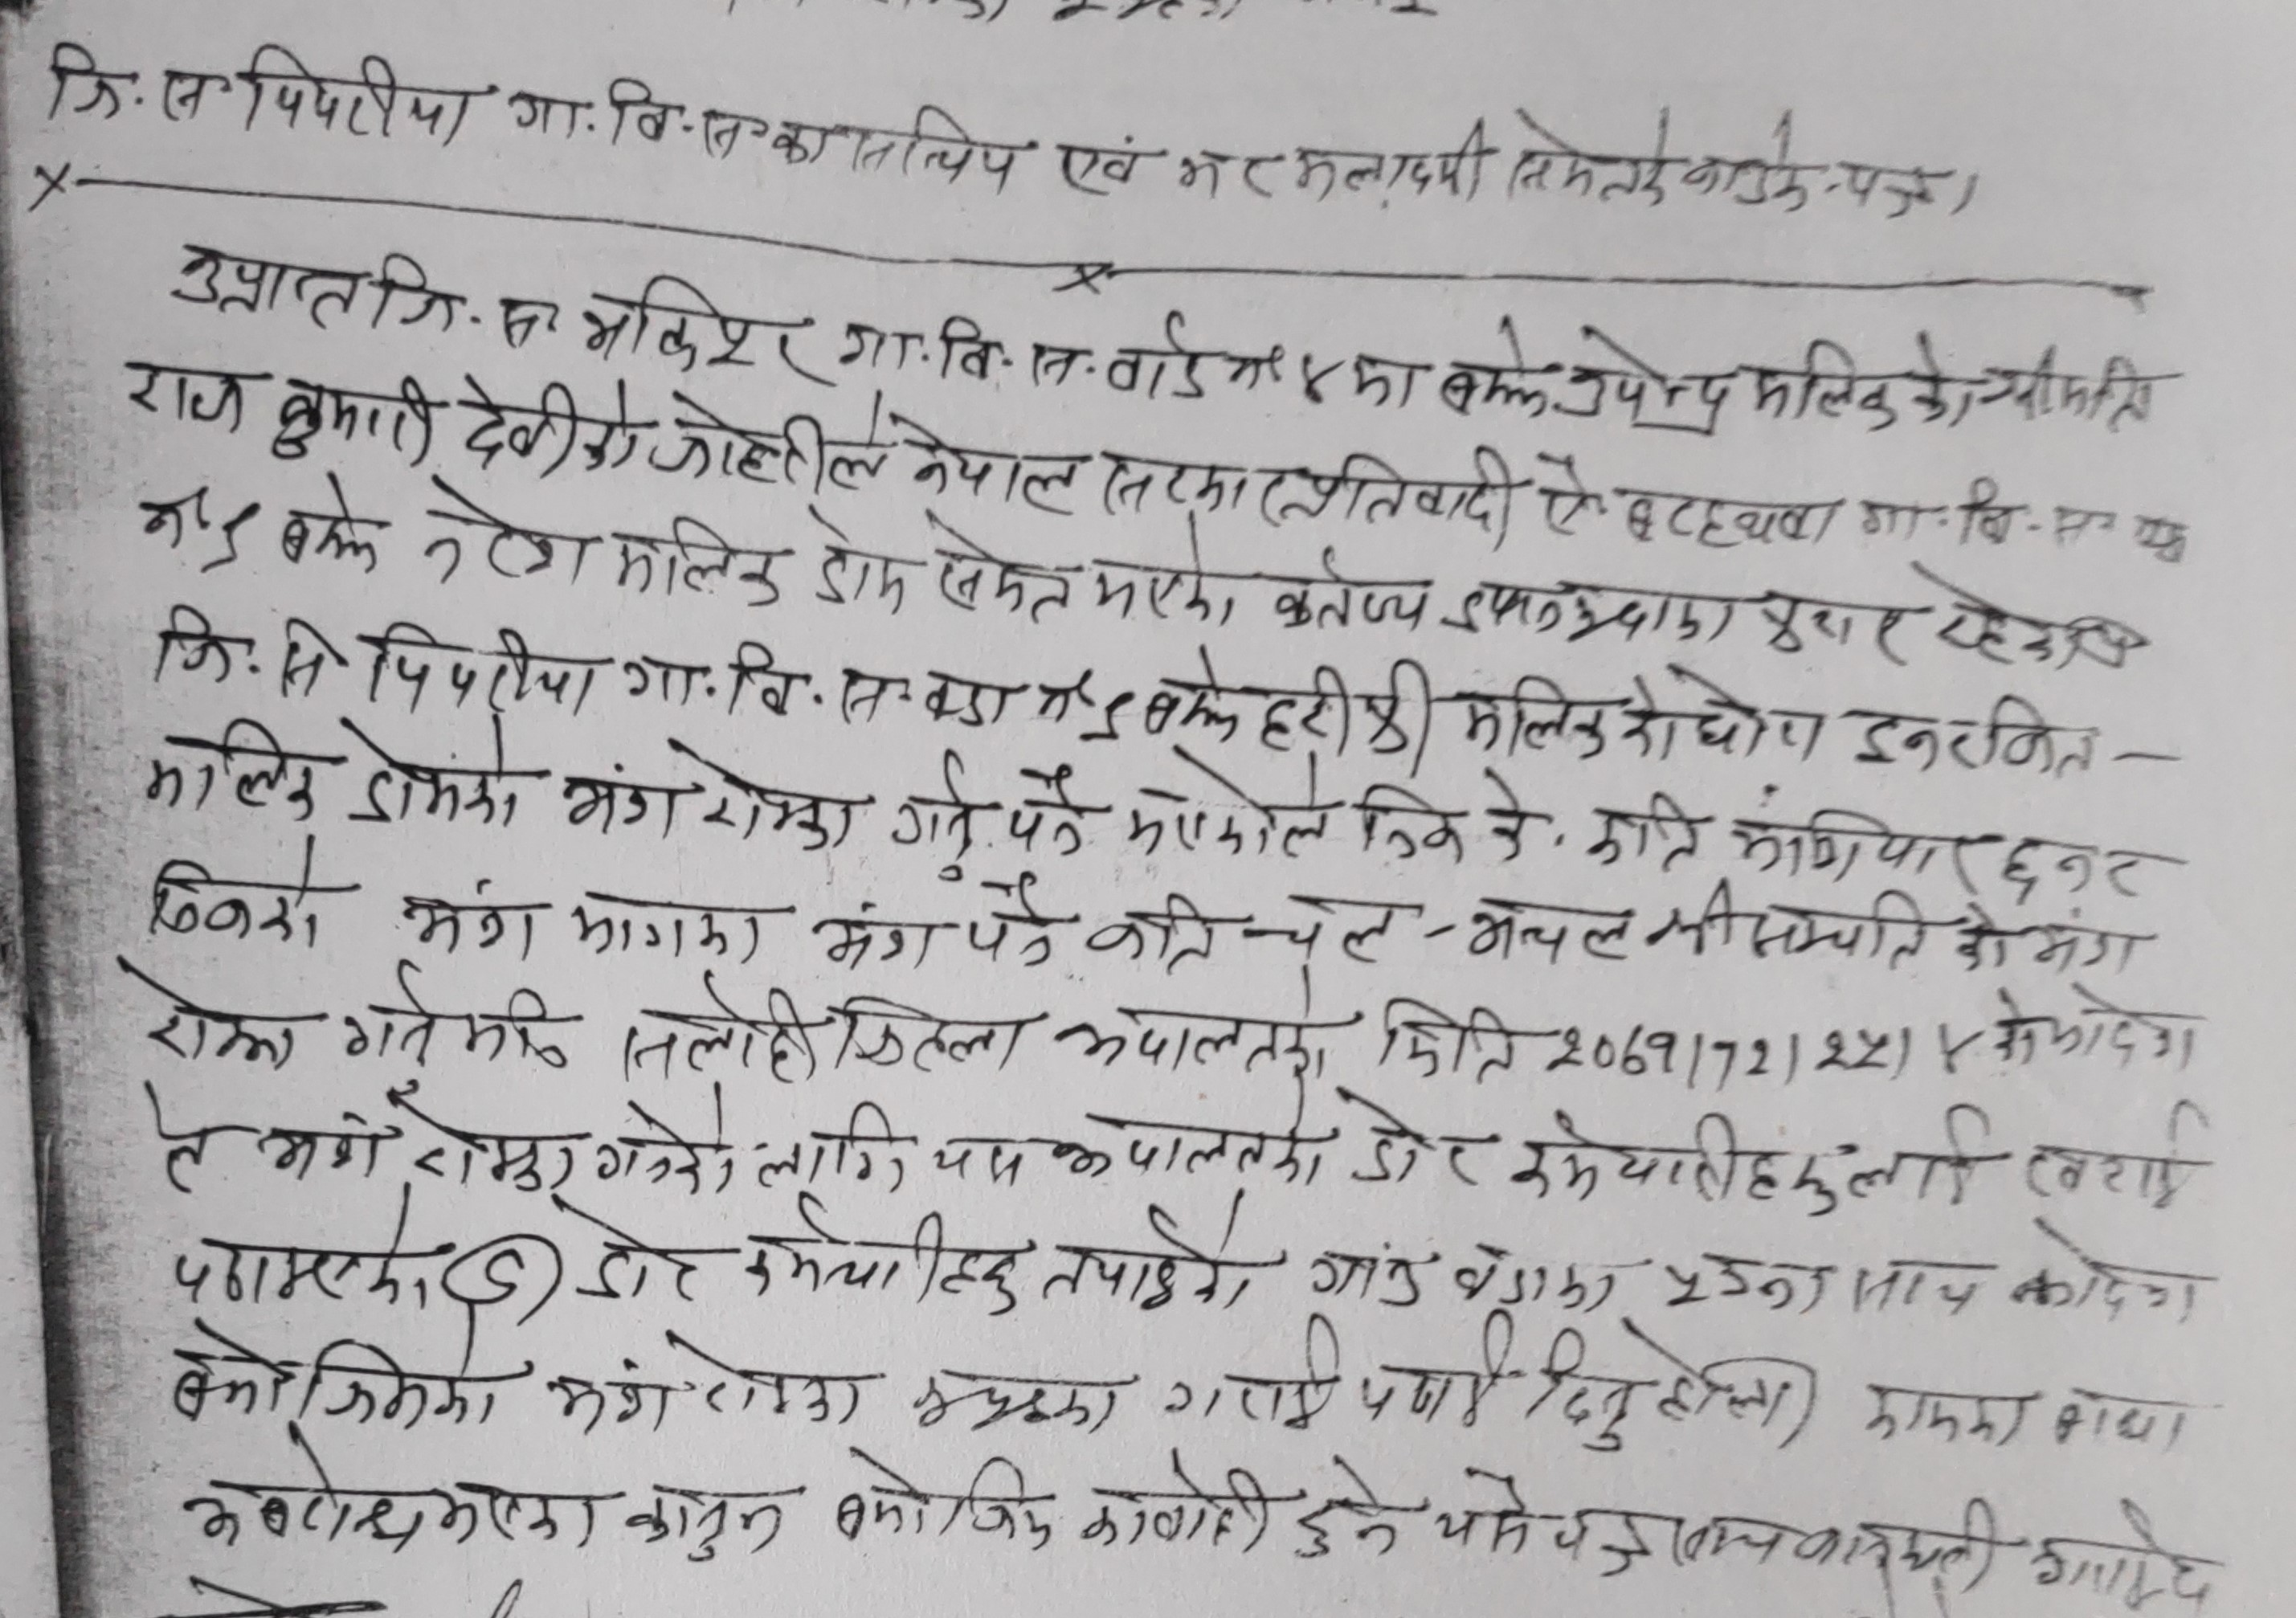text: (1497, 1098, 1995, 1219), (179, 1425, 602, 1562), (1536, 1326, 1821, 1462), (166, 1320, 513, 1432), (734, 1198, 1023, 1320), (1140, 646, 1438, 758), (1039, 1080, 1328, 1191), (165, 1203, 434, 1317), (1054, 979, 1340, 1084), (1545, 1009, 1897, 1091), (823, 1439, 1058, 1558), (578, 266, 816, 380), (648, 387, 893, 497), (1734, 322, 1979, 433), (238, 39, 478, 151), (613, 641, 914, 728), (613, 970, 825, 1091), (2014, 1089, 2212, 1217), (340, 970, 573, 1079), (1918, 567, 2154, 674), (1846, 685, 2102, 783), (1154, 1310, 1352, 1432), (1037, 1199, 1245, 1315), (340, 713, 536, 835), (503, 72, 762, 163), (1117, 755, 1333, 863), (413, 478, 602, 597), (1622, 665, 1832, 772), (368, 618, 601, 714), (1277, 445, 1518, 538), (144, 713, 326, 834), (676, 742, 869, 856), (890, 410, 1095, 517), (159, 235, 363, 341), (1079, 1443, 1277, 1551), (145, 835, 326, 954), (459, 369, 643, 485), (828, 315, 1089, 394), (1984, 979, 2212, 1068), (1559, 326, 1730, 443), (1352, 1306, 1518, 1427), (1727, 802, 1986, 879), (1499, 103, 1680, 214), (1284, 114, 1494, 208), (678, 1329, 874, 1429), (1441, 581, 1739, 646), (609, 508, 790, 615), (1949, 891, 2156, 984), (368, 249, 559, 348), (145, 602, 340, 699), (1098, 306, 1284, 404), (1855, 476, 2119, 545), (130, 972, 308, 1072), (42, 39, 233, 131), (266, 368, 443, 468), (848, 100, 1021, 200), (1622, 476, 1839, 555), (1084, 524, 1238, 634), (827, 995, 1028, 1079), (923, 515, 1079, 623), (909, 1366, 1126, 1443), (590, 1096, 746, 1203), (1739, 888, 1928, 975), (564, 890, 783, 965), (399, 1091, 550, 1198), (750, 1101, 916, 1198), (1257, 545, 1436, 634), (1680, 107, 1820, 221), (1653, 1240, 1834, 1324), (1455, 884, 1639, 967), (623, 1476, 799, 1562), (1375, 991, 1524, 1091), (1855, 1369, 2035, 1452), (1462, 665, 1618, 760), (1284, 1452, 1405, 1571), (569, 1208, 713, 1308), (1343, 1094, 1482, 1196), (1433, 315, 1559, 426), (1236, 890, 1417, 967), (1089, 443, 1256, 525), (804, 497, 914, 620), (1447, 1240, 1625, 1315), (398, 870, 545, 958), (891, 753, 982, 884), (1848, 1245, 2000, 1322), (1086, 890, 1217, 979), (1580, 784, 1706, 877), (130, 482, 254, 574), (1762, 587, 1907, 665), (243, 1112, 394, 1187), (119, 354, 249, 440), (536, 1354, 674, 1432), (277, 468, 380, 573), (1352, 776, 1469, 865), (1440, 1457, 1534, 1558), (562, 760, 678, 842), (1830, 154, 1946, 233), (140, 1079, 221, 1191), (1000, 760, 1095, 855), (963, 881, 1060, 972), (820, 898, 939, 972), (1301, 1247, 1433, 1310), (1531, 443, 1611, 539), (1645, 881, 1741, 961), (1054, 126, 1147, 201), (928, 1129, 1030, 1196), (1175, 142, 1273, 208), (919, 665, 1021, 727), (1478, 760, 1534, 863), (1285, 340, 1350, 419), (1347, 341, 1420, 410), (765, 117, 837, 177), (1919, 1010, 1977, 1082)
